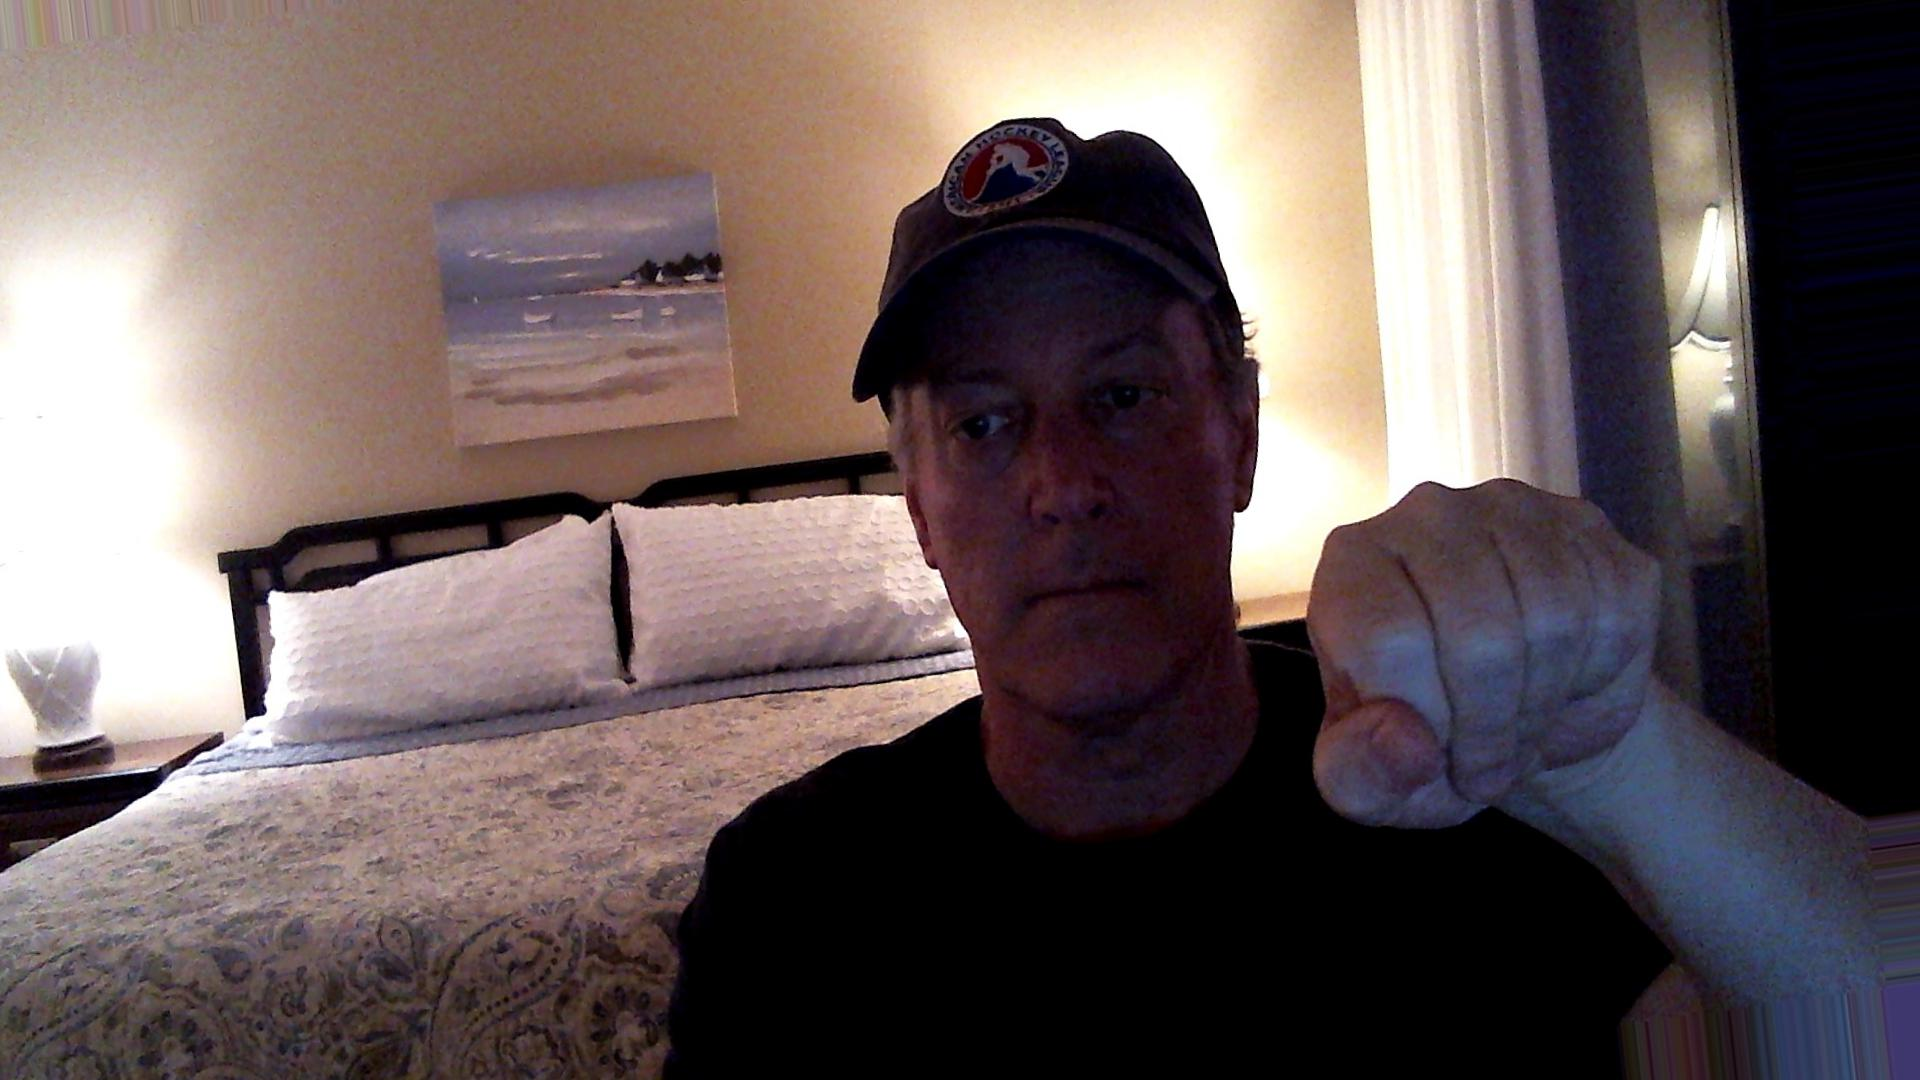Yes: (1292, 469, 1706, 837)
